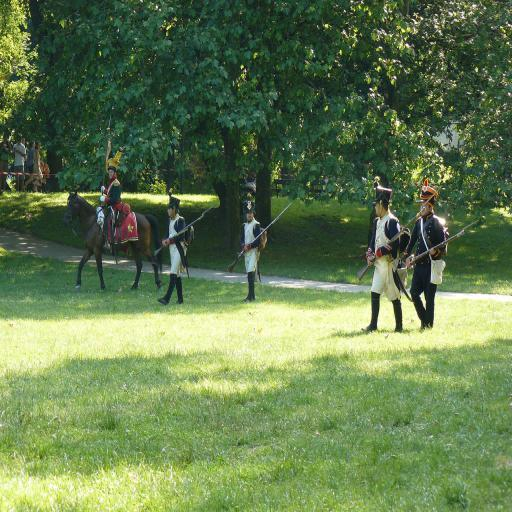Horse: (62, 186, 164, 290)
